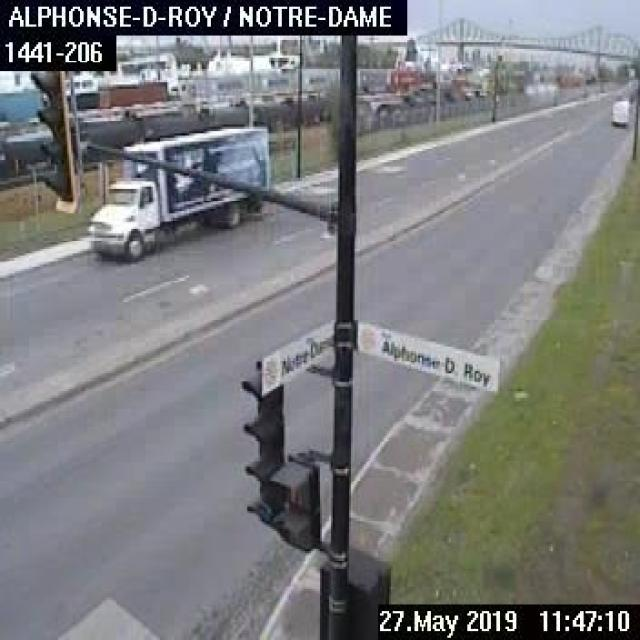vehicle: (84, 120, 269, 260), (608, 96, 628, 124)
